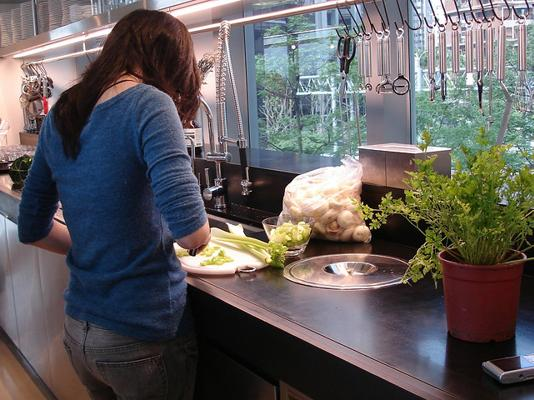person: (18, 9, 213, 400)
